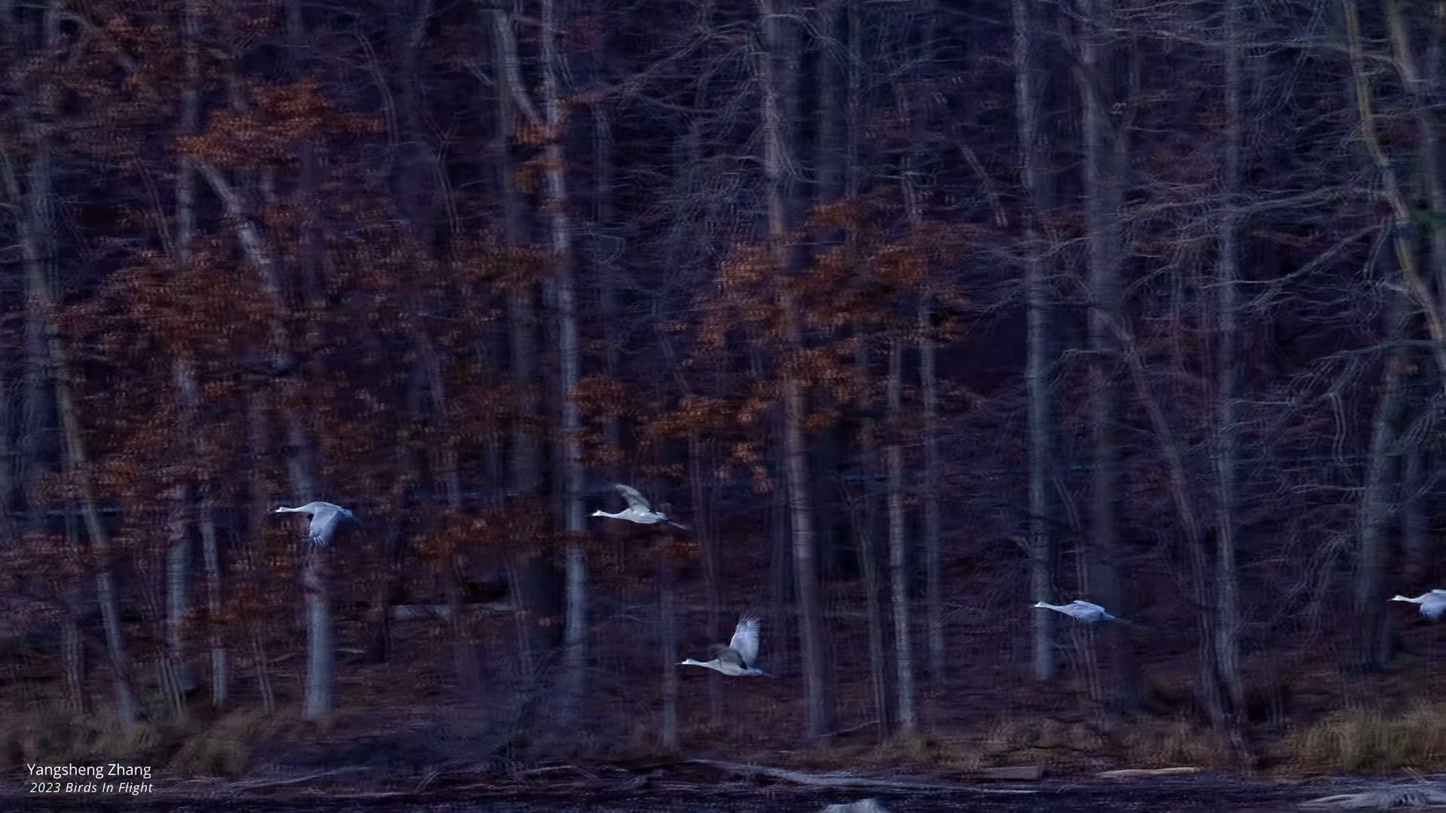not_drone: (665, 608, 777, 690), (584, 469, 689, 536), (260, 488, 361, 548), (1023, 586, 1116, 627), (1382, 578, 1446, 621)
